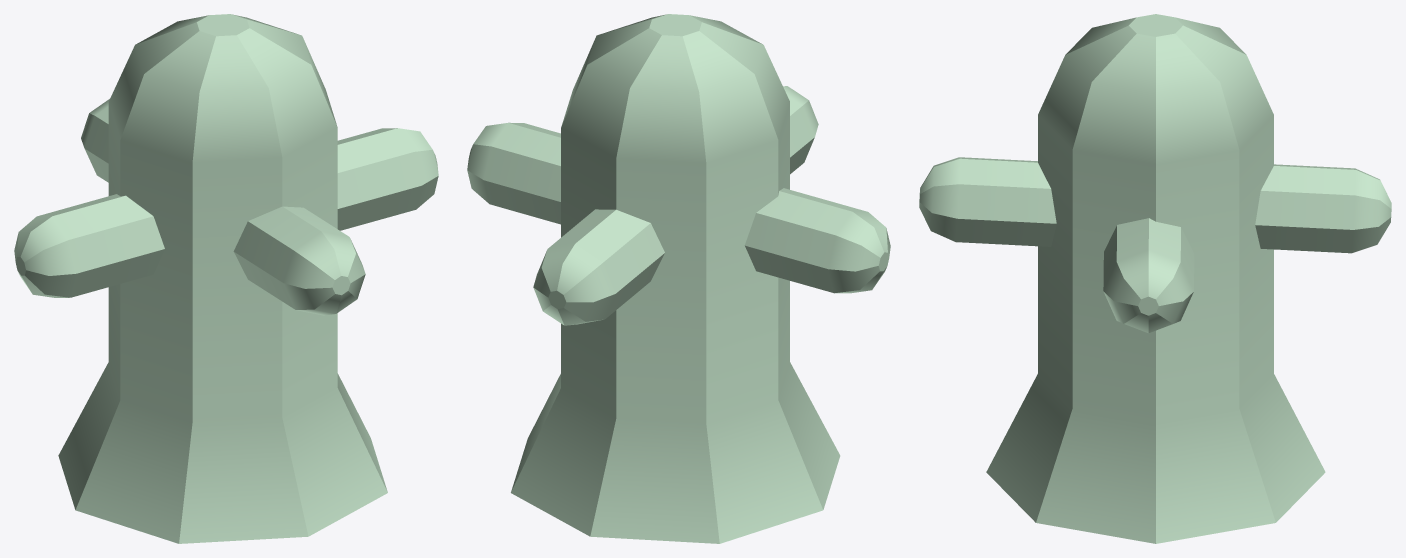
File: firehydrant.fbx
The picture shows the model from 3 angles, left to right: view 1: azimuth 30°, elevation 25°; view 2: azimuth 150°, elevation 25°; view 3: azimuth 270°, elevation 25°; orthographic projection.
Parts seen in each view (by area): view 1: pCylinder29; view 2: pCylinder29; view 3: pCylinder29.
Boxes of the visible parts, bbox=[...] form: pCylinder29: bbox=[14, 14, 438, 543]; pCylinder29: bbox=[467, 14, 890, 543]; pCylinder29: bbox=[919, 14, 1391, 543].
Bounding box in the file's own units: 10.36 × 10.81 × 10.36.
